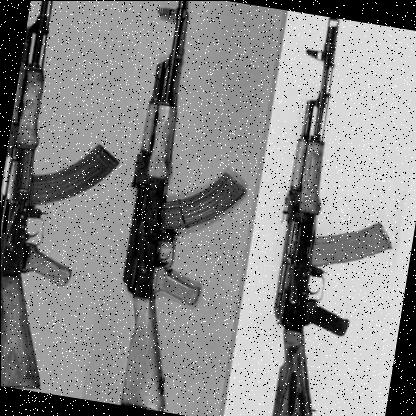rifle: (98, 0, 283, 416), (236, 12, 416, 416), (0, 0, 155, 400)
